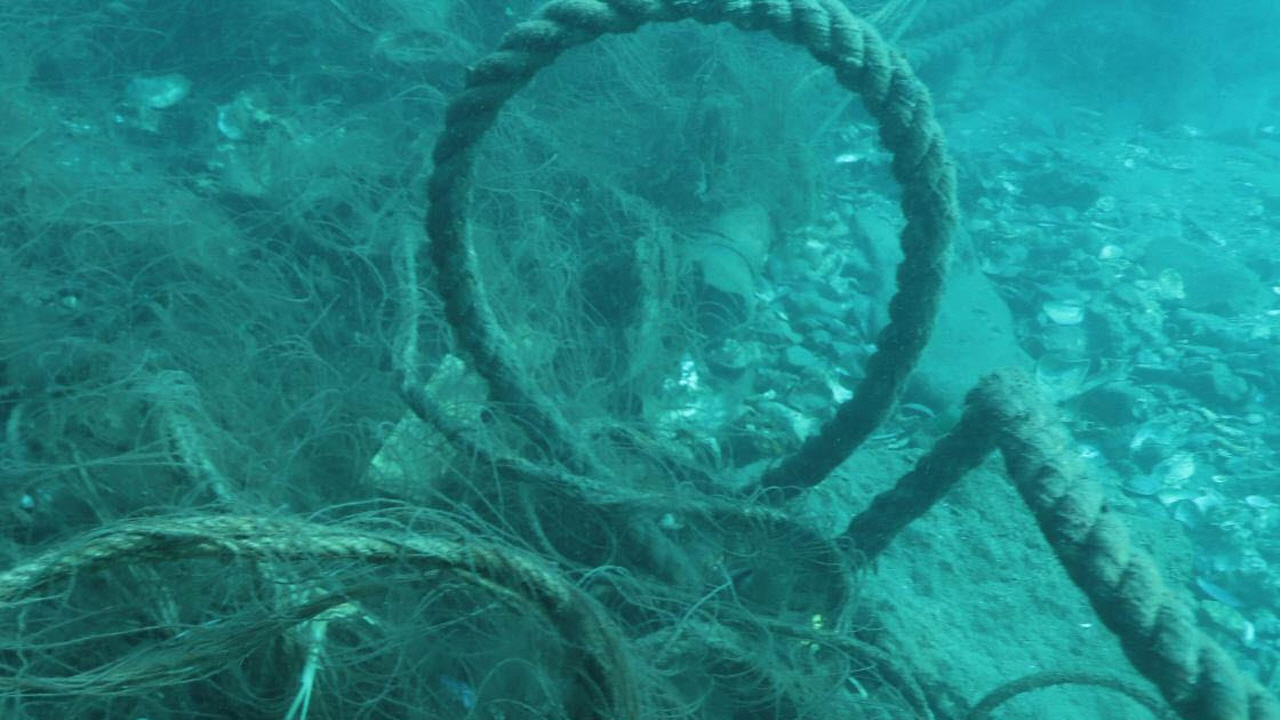bundle of ropes: (423, 0, 1280, 720), (0, 506, 635, 720)
